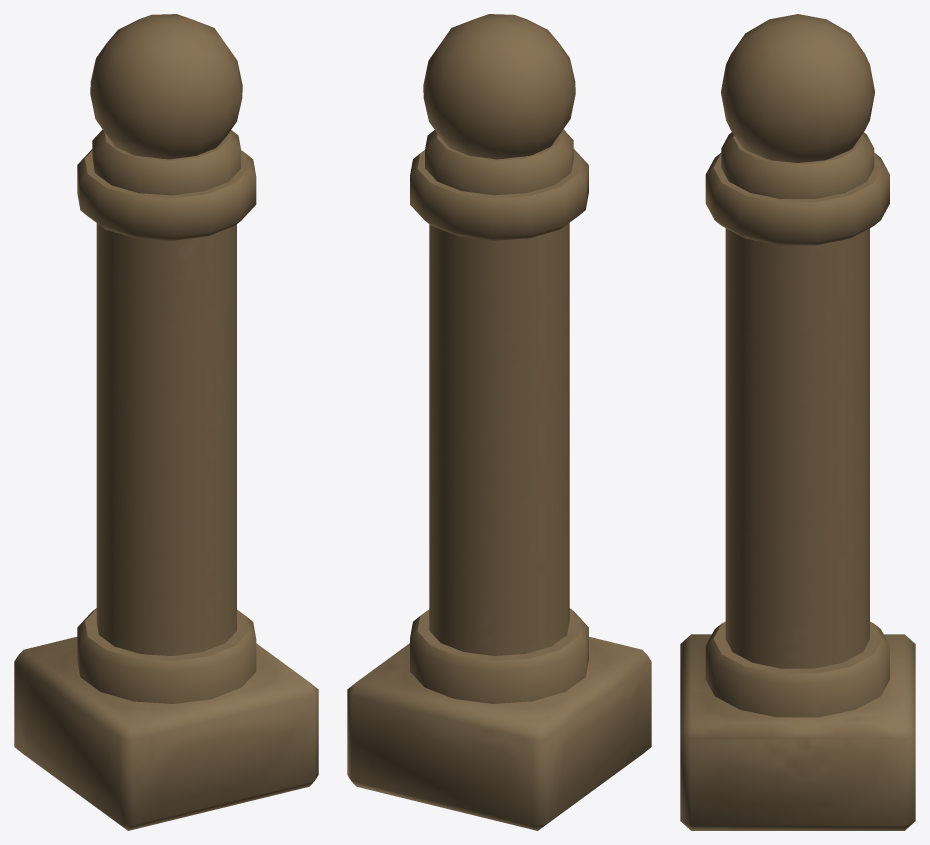
File: ARC0510076.fbx
The picture shows the model from 3 angles, left to right: view 1: azimuth 30°, elevation 25°; view 2: azimuth 150°, elevation 25°; view 3: azimuth 270°, elevation 25°; orthographic projection.
Parts seen in each view (by area): view 1: smARC0510076; view 2: smARC0510076; view 3: smARC0510076.
Boxes of the visible parts, x1,y1,x2,y2 form: smARC0510076: [14, 14, 318, 830]; smARC0510076: [347, 14, 651, 830]; smARC0510076: [680, 14, 915, 830].
Bounding box in the file's own units: 30 × 107 × 30.
Materials: 1 (1 with a texture image).
